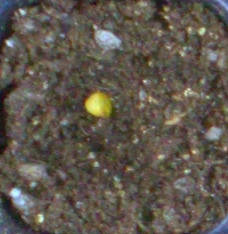pepper seed: (27, 31, 140, 150)
